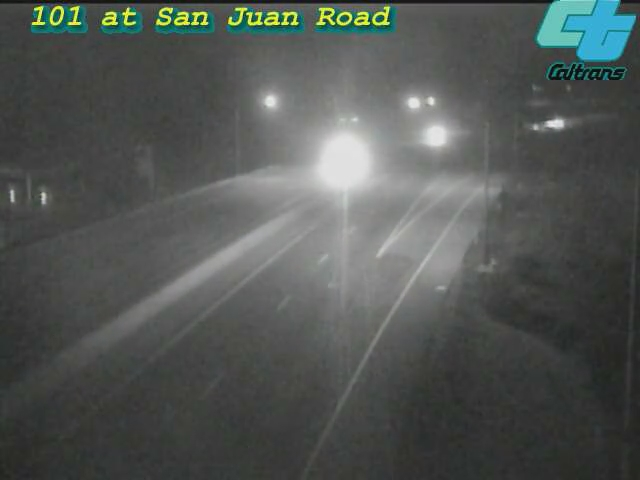vehicle: (301, 121, 381, 201), (406, 113, 456, 163), (539, 96, 589, 146), (526, 97, 576, 147), (509, 102, 559, 152)
